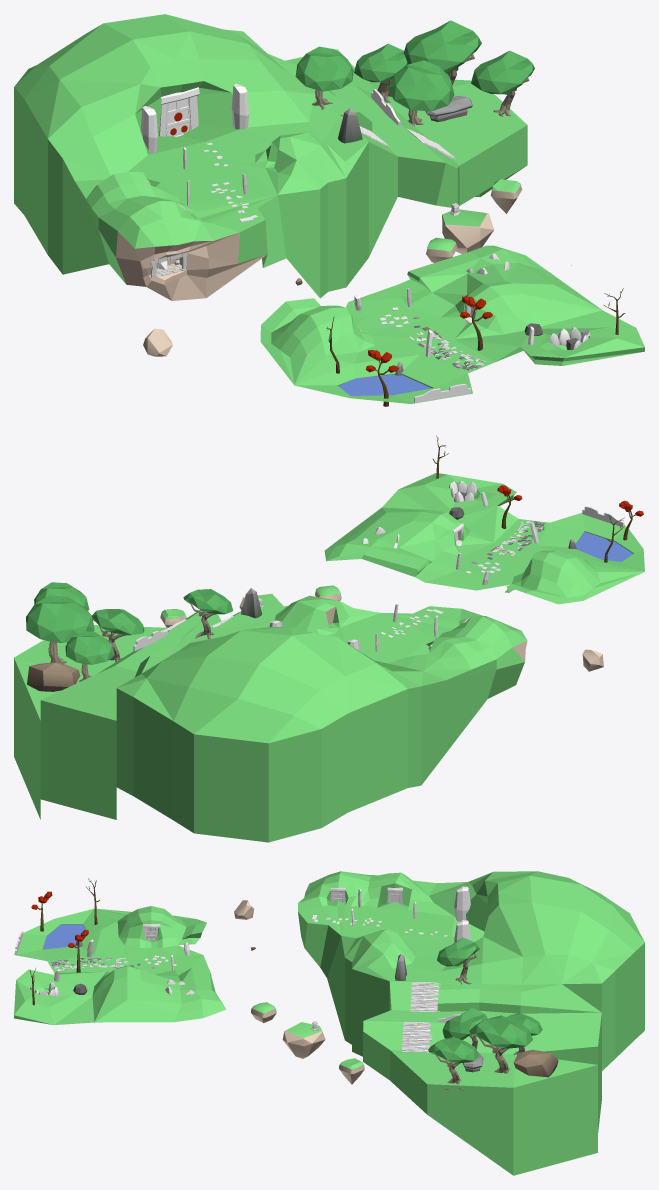
The model's file is SM_06 Graveyard.fbx.
3 views of the same model, one above another, from view 1: azimuth 30°, elevation 25°; view 2: azimuth 150°, elevation 25°; view 3: azimuth 270°, elevation 25° (orthographic). The views are drawn at different scales.
Visible parts, largest first — view 1: Isllands01.001, Island02.001, tree.004, tree.005, tree.006, tree.008, Island01.005, tree.007, STREET_stones.002, marcodoor.005, Island01.007, Cube.022 (+5 smaller); view 2: Isllands01.001, Island02.001, tree.005, tree.007, tree.004, Rock.002, tree.008, STREET_stones.002, tree.006; view 3: Isllands01.001, Island02.001, tree.005, tree.006, Island01.005, tree.008, Rock.002, tree.004, STREET_stones.002, Stairs.004, Stairs.007, Cube.023 (+1 smaller).
Boxes of the visible parts, x1,y1,x2,y2 form: Isllands01.001: [14, 14, 527, 300]; Island02.001: [260, 245, 644, 403]; tree.004: [388, 60, 454, 126]; tree.005: [403, 20, 481, 84]; tree.006: [471, 50, 534, 116]; tree.008: [295, 46, 353, 109]; Island01.005: [442, 209, 494, 253]; tree.007: [354, 43, 407, 102]; STREET_stones.002: [379, 307, 485, 370]; marcodoor.005: [159, 87, 199, 136]; Island01.007: [490, 179, 522, 213]; Cube.022: [231, 83, 248, 129]; Isllands01.001: [14, 595, 527, 842]; Island02.001: [324, 473, 644, 604]; tree.005: [26, 595, 94, 663]; tree.007: [65, 631, 114, 681]; tree.004: [92, 609, 144, 662]; Rock.002: [27, 662, 80, 691]; tree.008: [183, 589, 232, 639]; STREET_stones.002: [465, 521, 544, 573]; tree.006: [34, 582, 89, 610]; Isllands01.001: [298, 871, 644, 1175]; Island02.001: [14, 906, 225, 1024]; tree.005: [469, 1015, 532, 1073]; tree.006: [428, 1037, 479, 1090]; Island01.005: [282, 1022, 325, 1058]; tree.008: [437, 937, 479, 984]; Rock.002: [513, 1049, 558, 1077]; tree.004: [442, 1008, 487, 1051]; STREET_stones.002: [51, 955, 176, 970]; Stairs.004: [402, 1022, 432, 1041]; Stairs.007: [411, 982, 438, 999]; Cube.023: [454, 886, 470, 921].
Bounding box in the file's own units: 7116 × 3172 × 9814.
